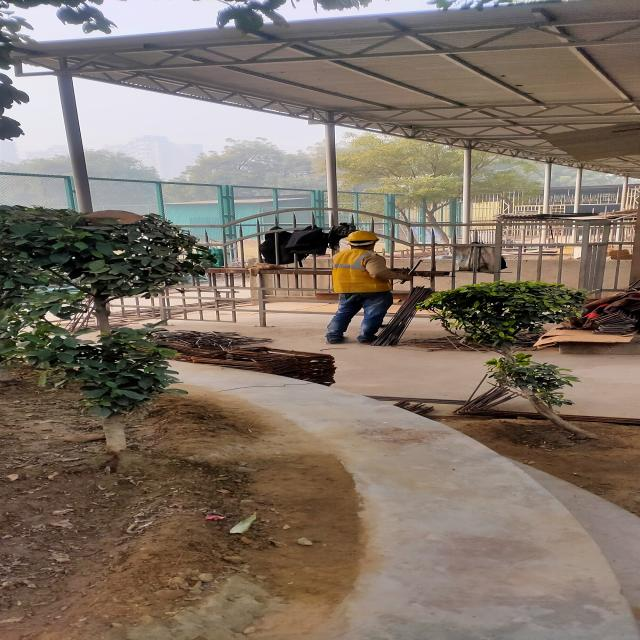safe: (326, 229, 394, 342)
